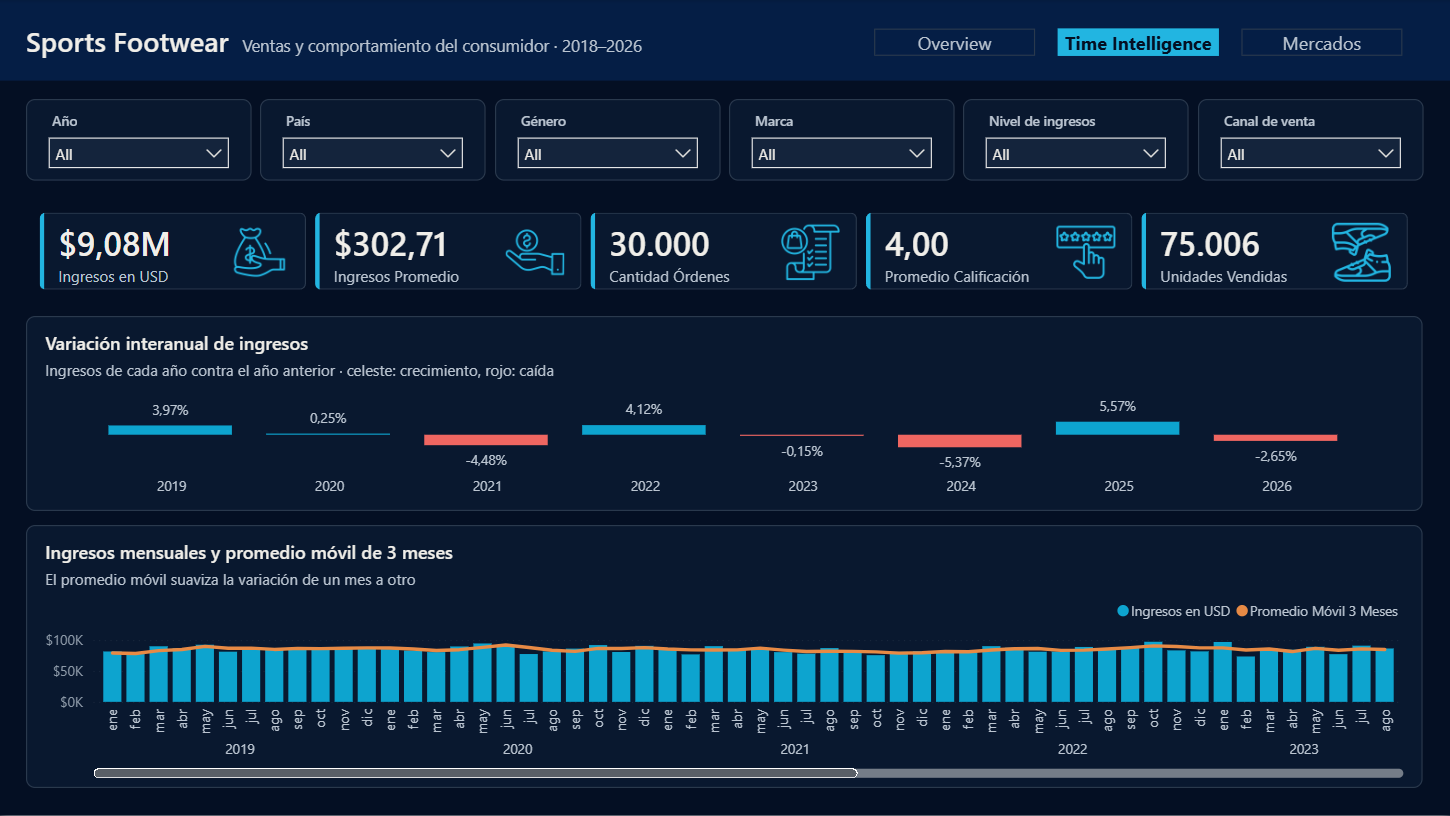

Layout of this report page (visuals, bound fields, positions):
{"tool":"powerbi","page":{"name":"Time Intelligence","canvas":[1280,720],"ordinal":1},"visuals":[{"type":"clusteredColumnChart","title":"Performance Interanual: Ingresos Actuales vs. Año Anterior","fields":{"Category":["Calendario.Año"],"Y":["Medidas.YoY % Ingresos"]},"box":[31.6,181.9,1222,214.9],"z":0},{"type":"lineClusteredColumnComboChart","title":"Tendencia de Ingresos vs. Promedio Móvil a 3 meses","fields":{"Category":["Calendario.Año","Calendario.Mes"],"Y":["Medidas.Ingresos en USD"],"Y2":["Medidas.Promedio Móvil 3 Meses"]},"box":[31.6,411.9,1222,297.6],"z":1000},{"type":"shape","box":[0,0,1279.8,175],"z":2000},{"type":"cardVisual","fields":{"Data":["Medidas.Ingresos en USD","Medidas.Ingreso Promedio por Órden","Medidas.Cantidad Órdenes","Medidas.Promedio Calificación de Cliente","Medidas.Unidades Vendidas"]},"box":[18,81.2,1249.1,99.2],"z":3000},{"type":"slicer","fields":{"Values":["Calendario.Año"]},"box":[32.1,9.6,117.2,69.1],"z":4000},{"type":"slicer","fields":{"Values":["df.Género"]},"box":[287.7,9.6,166.8,69.1],"z":5000},{"type":"slicer","fields":{"Values":["Marcas.Marca"]},"box":[461.3,9.6,159.3,69.1],"z":6000},{"type":"slicer","fields":{"Values":["df.Nivel de Ingresos del Cliente"]},"box":[627.9,9.6,142.8,69.1],"z":7000},{"type":"slicer","fields":{"Values":["Países.País"]},"box":[156.7,9.6,123.3,69.1],"z":8000},{"type":"slicer","fields":{"Values":["Canales de Venta.Canal de Venta"]},"box":[778,9.6,207.4,69.1],"z":9000},{"type":"pageNavigator","box":[992.7,9.6,261.5,69.1],"z":10000}]}

Visuals, with their boxes in screenshot pixels (x1, y1, x2, y2), scaled from the page's 1280x720 canvas onto the 1450x816 screenshot:
"Performance Interanual: Ingresos Actuales vs. Año Anterior" clusteredColumnChart: rect(36, 206, 1420, 450)
"Tendencia de Ingresos vs. Promedio Móvil a 3 meses" lineClusteredColumnComboChart: rect(36, 467, 1420, 804)
shape: rect(0, 0, 1449, 198)
cardVisual - Medidas.Ingresos en USD x Medidas.Ingreso Promedio por Órden: rect(20, 92, 1435, 204)
slicer - Calendario.Año: rect(36, 11, 169, 89)
slicer - df.Género: rect(326, 11, 515, 89)
slicer - Marcas.Marca: rect(523, 11, 703, 89)
slicer - df.Nivel de Ingresos del Cliente: rect(711, 11, 873, 89)
slicer - Países.País: rect(178, 11, 317, 89)
slicer - Canales de Venta.Canal de Venta: rect(881, 11, 1116, 89)
pageNavigator: rect(1125, 11, 1421, 89)
